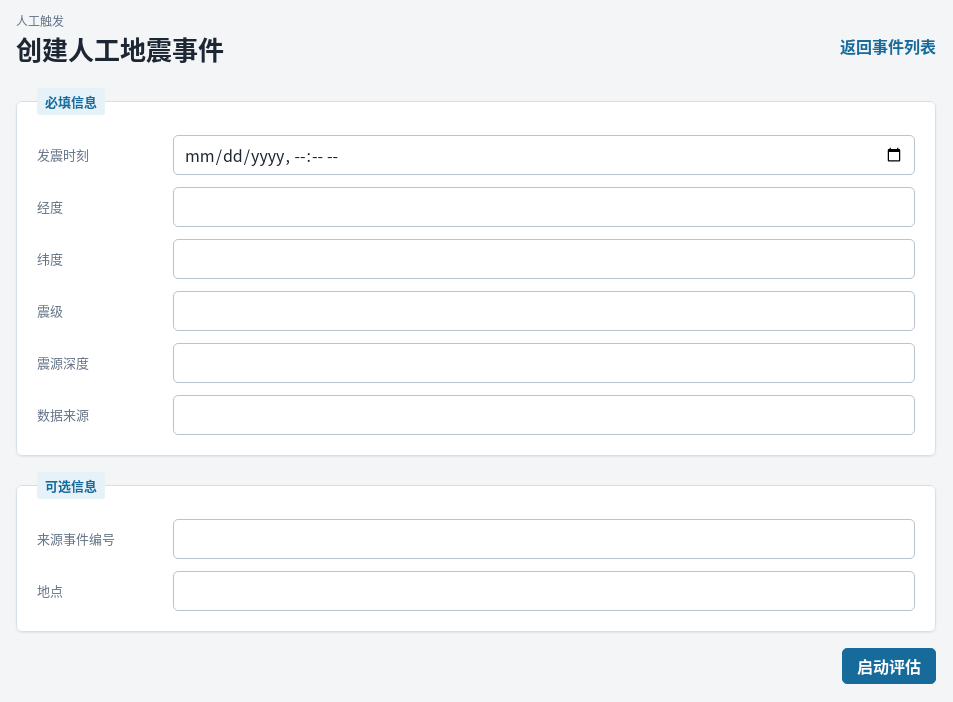
Test: shows a clear failure state when submission fails
Type "2026-09-17T10:30" into the field labelled "发震时刻" at (544, 154), box [173, 134, 915, 174]
Type "121.54" into the number field labelled "经度" at (544, 206), box [173, 186, 915, 226]
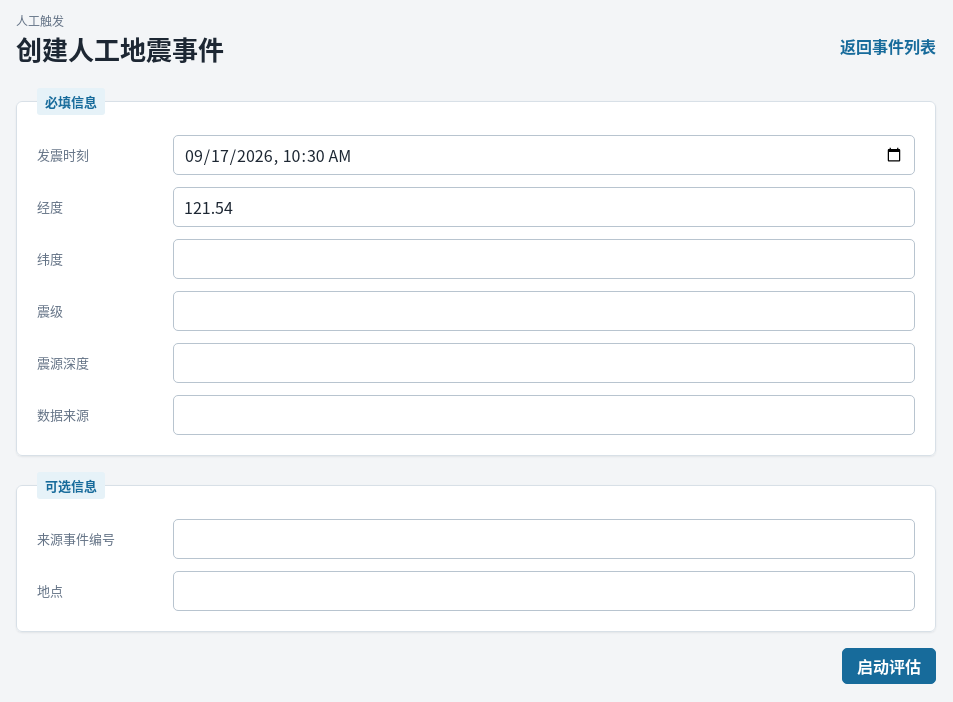
Type "31.22" into the number field labelled "纬度" at (544, 258), box [173, 238, 915, 278]
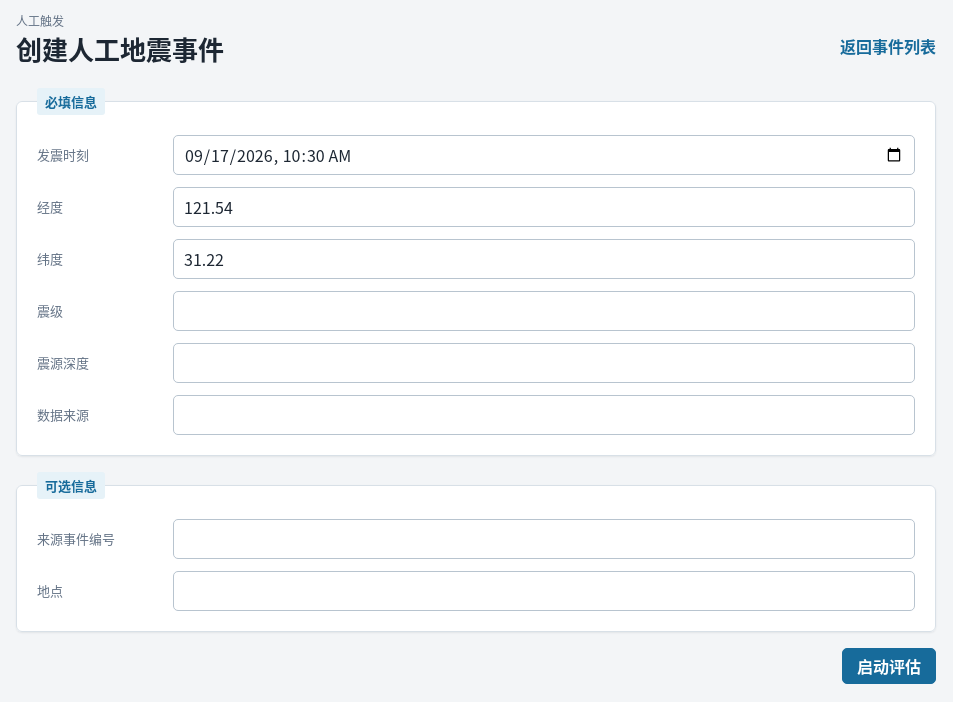
Type "3.2" into the number field labelled "震级" at (544, 310), box [173, 290, 915, 330]
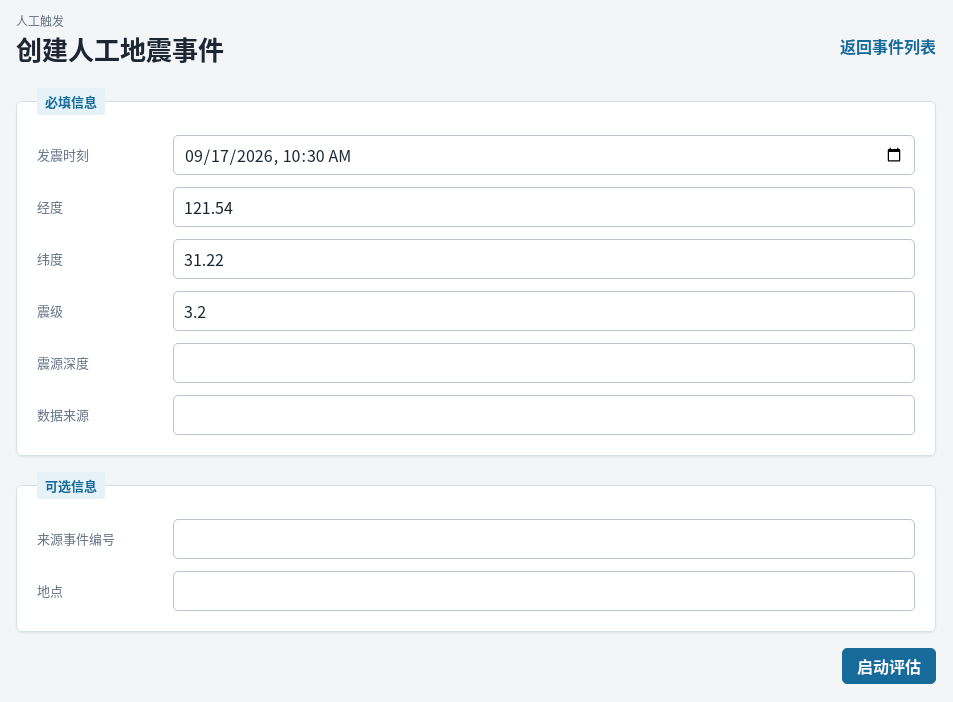
Type "8" into the number field labelled "震源深度" at (544, 362), box [173, 342, 915, 382]
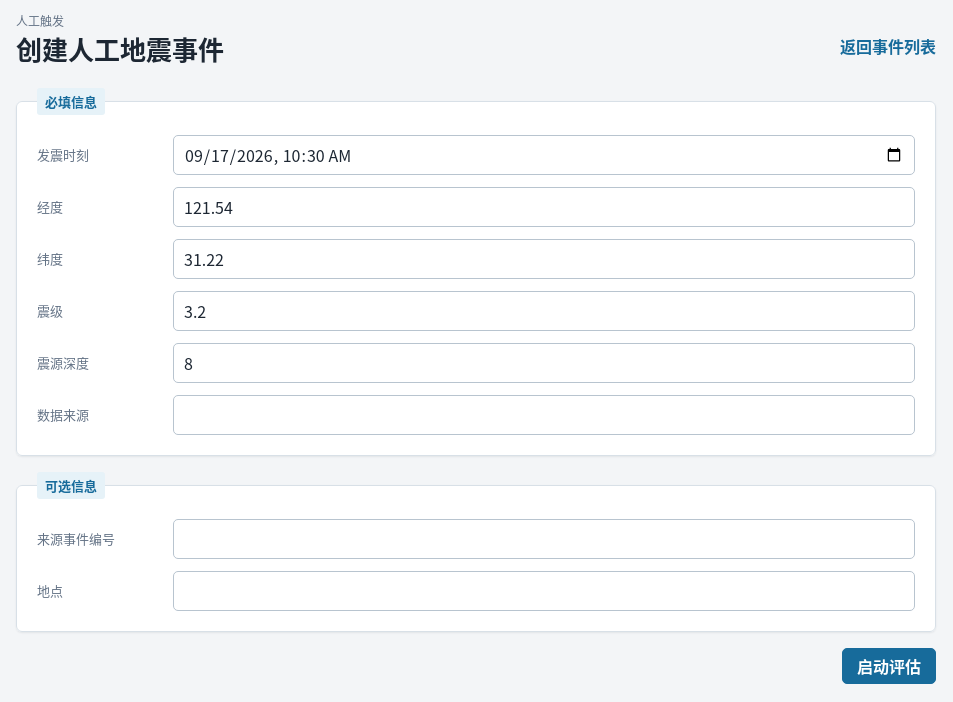
Type "shanghai-network" into the field labelled "数据来源" at (544, 414), box [173, 394, 915, 434]
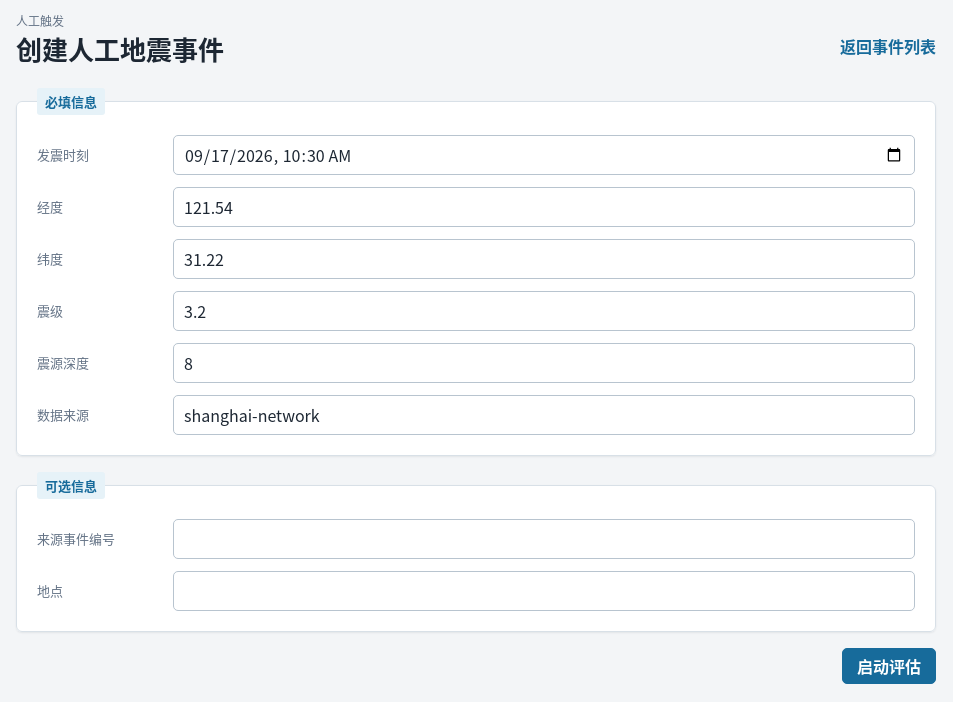
Click the button "启动评估" at (889, 666), box [842, 648, 936, 684]
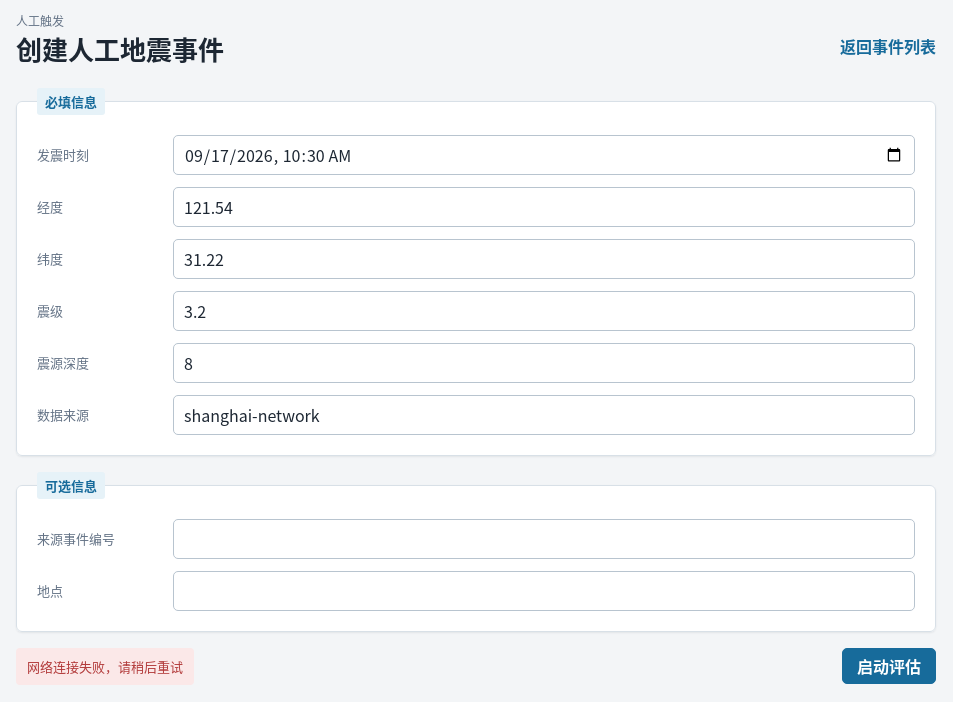
Expected: the text "网络连接失败，请稍后重试" is shown, [16, 648, 194, 684]
